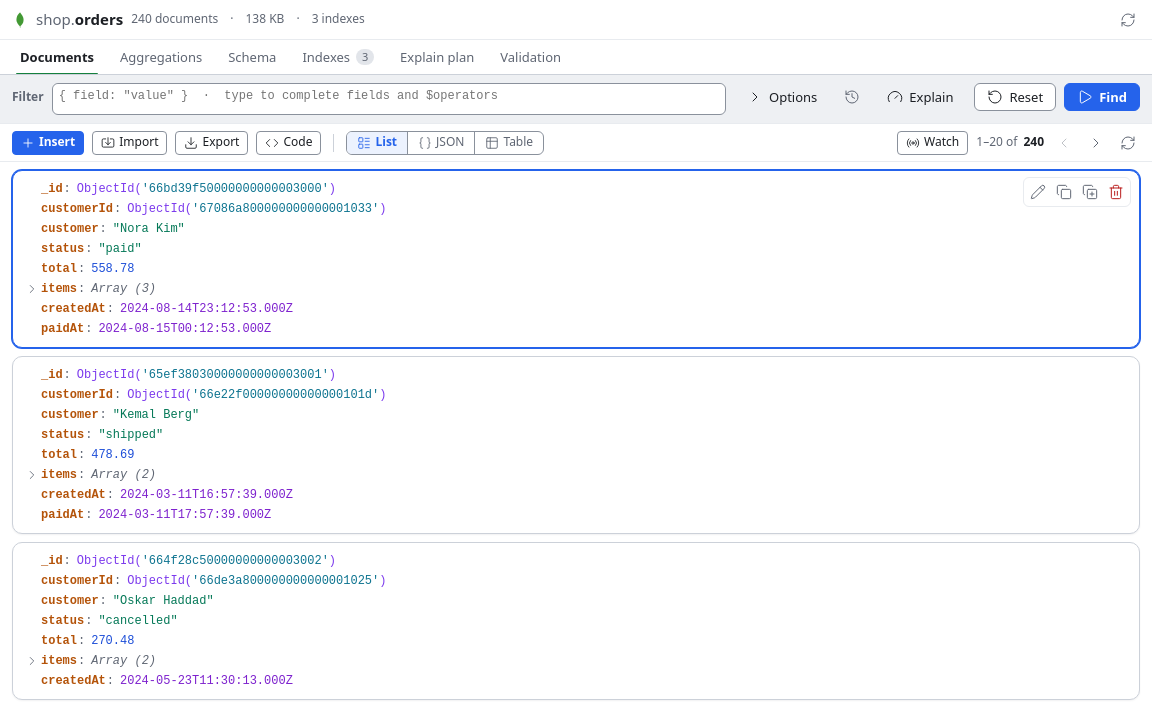
Test: documents view › switches between list, JSON and table views
This screenshot has width=1152, height=702.
Step 1. Click the radio button labelled "JSON" → (441, 143), box [407,132,474,154]
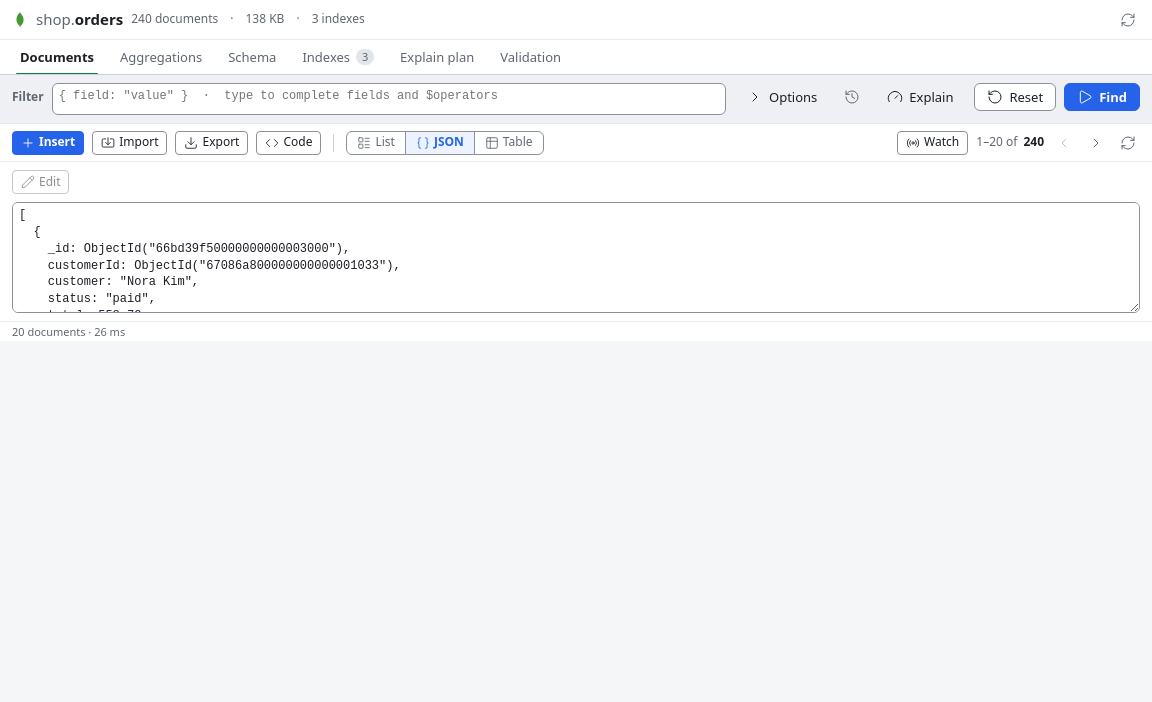
Step 2. Click the radio button labelled "Table" → (508, 143), box [474,132,542,154]
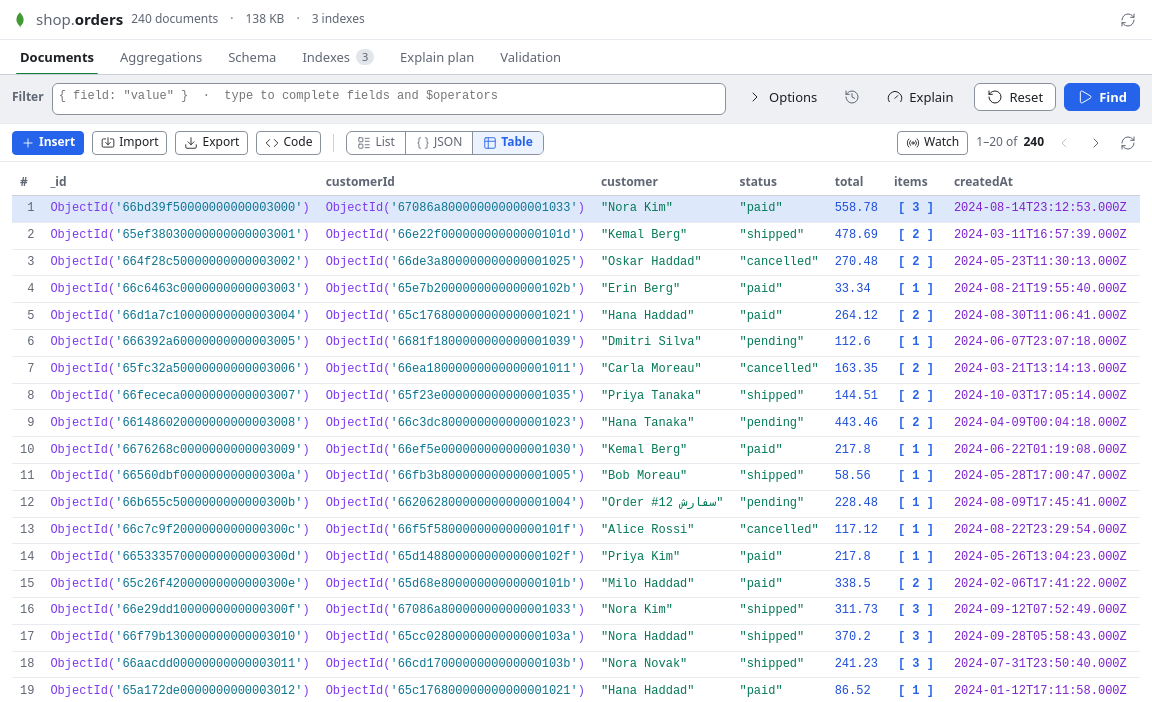
drill into the items array of the first row
Step 3. Click the button "[ 3 ]" in the row of "66bd39f50000000000003000" → (916, 209), box [894,200,938,217]
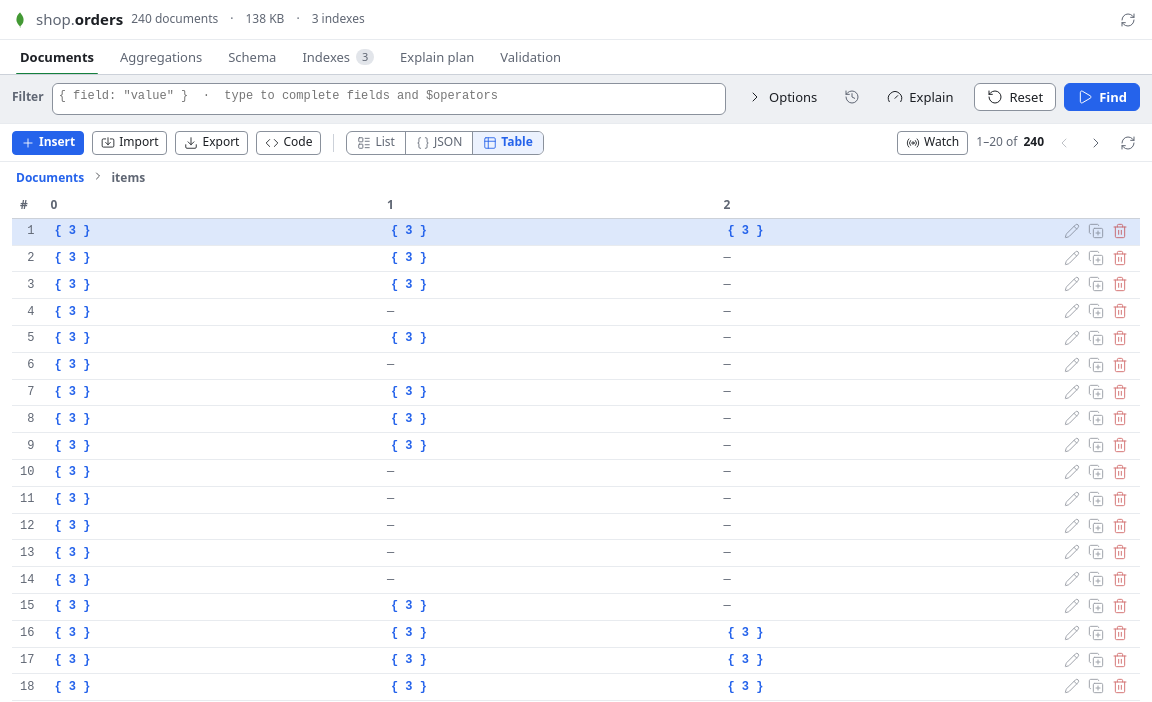
Now the navigation bar named "Drill-down path" shows "items", box [107,170,149,187]
